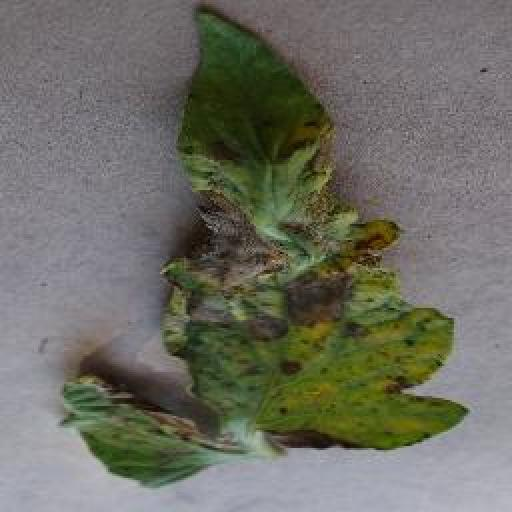Early Blight: (58, 3, 473, 493)
